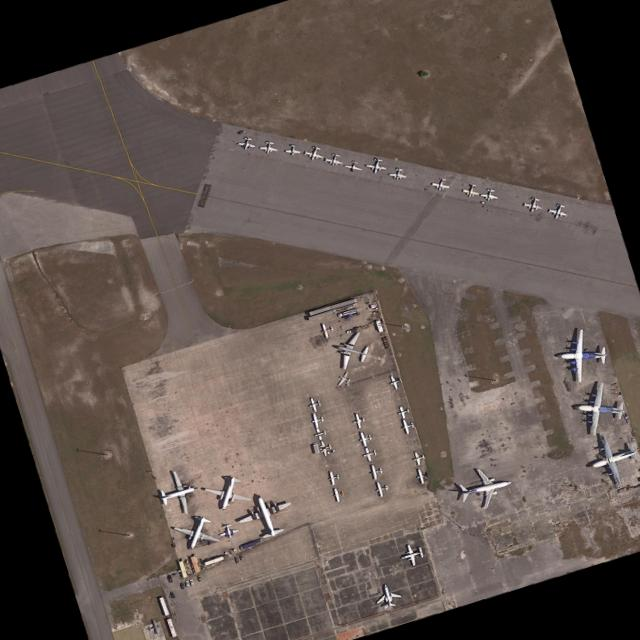large-vehicle: (338, 309, 358, 318)
plane: (232, 487, 299, 546), (571, 379, 628, 439), (584, 431, 640, 491), (557, 325, 609, 384), (456, 464, 515, 512), (168, 510, 225, 556), (154, 466, 203, 519), (201, 472, 257, 515), (327, 328, 374, 374), (373, 581, 404, 611), (399, 541, 426, 569), (365, 157, 389, 176), (548, 202, 571, 221), (304, 144, 327, 163), (218, 522, 240, 540), (523, 196, 545, 214), (461, 182, 482, 200), (324, 151, 346, 168), (431, 176, 453, 193), (336, 369, 355, 388), (480, 187, 501, 203), (388, 166, 409, 182), (361, 445, 379, 463), (387, 373, 404, 391), (374, 480, 391, 498), (351, 412, 367, 431), (260, 140, 280, 155), (344, 160, 365, 174), (237, 137, 258, 151), (400, 418, 417, 435), (320, 322, 336, 340), (146, 619, 162, 637), (310, 411, 326, 429), (317, 439, 333, 457), (358, 430, 374, 448), (368, 463, 384, 481), (415, 467, 431, 485), (307, 396, 323, 413), (327, 469, 342, 487), (331, 486, 346, 504), (412, 450, 427, 467), (396, 405, 412, 420), (284, 144, 302, 157), (314, 427, 328, 441)
small-vehicle: (237, 129, 247, 135), (196, 575, 203, 583), (169, 591, 176, 599), (167, 574, 174, 582), (234, 557, 241, 564), (328, 449, 336, 455), (190, 579, 195, 587), (240, 554, 245, 561), (180, 582, 185, 589), (186, 581, 190, 587)
